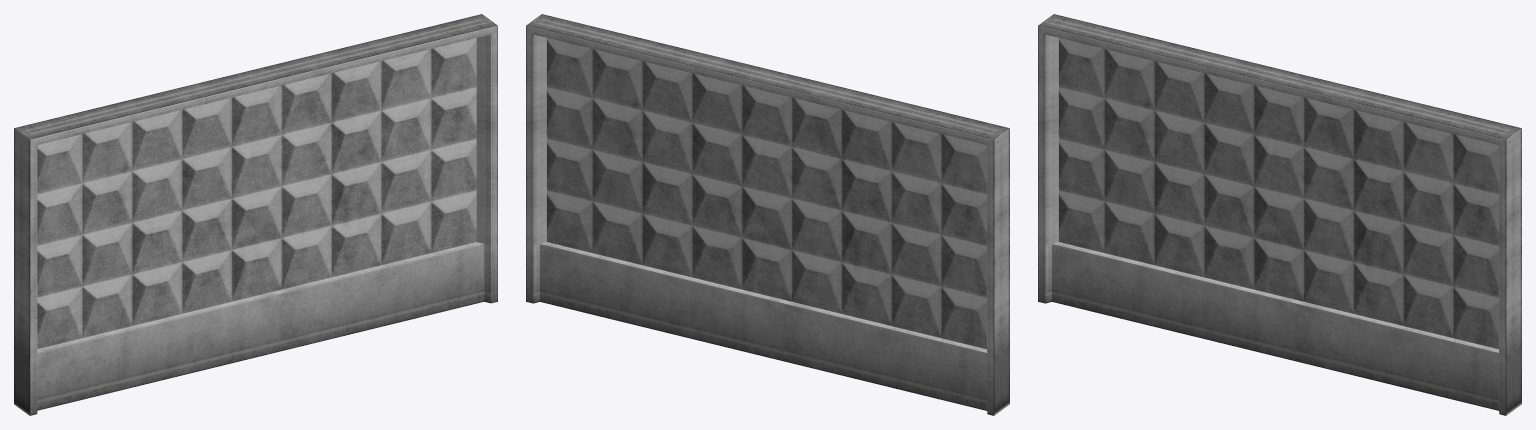
Rendered from FenceConcrete1_1.FBX.
3 views of the same model, side by side, from view 1: azimuth 30°, elevation 25°; view 2: azimuth 150°, elevation 25°; view 3: azimuth 330°, elevation 25° (orthographic).
Visible parts, largest first — view 1: FenceConcrete1; view 2: FenceConcrete1; view 3: FenceConcrete1.
Boxes of the visible parts, box(x1,y1,x2,y2) form: FenceConcrete1: box(14, 14, 497, 415); FenceConcrete1: box(526, 14, 1009, 415); FenceConcrete1: box(1038, 14, 1521, 415).
Size of the model in its own units: 157 by 88.82 by 9.23.
